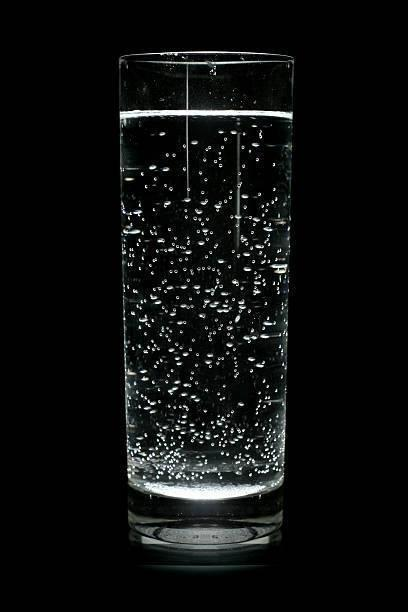glass-normal: (112, 44, 299, 506)
